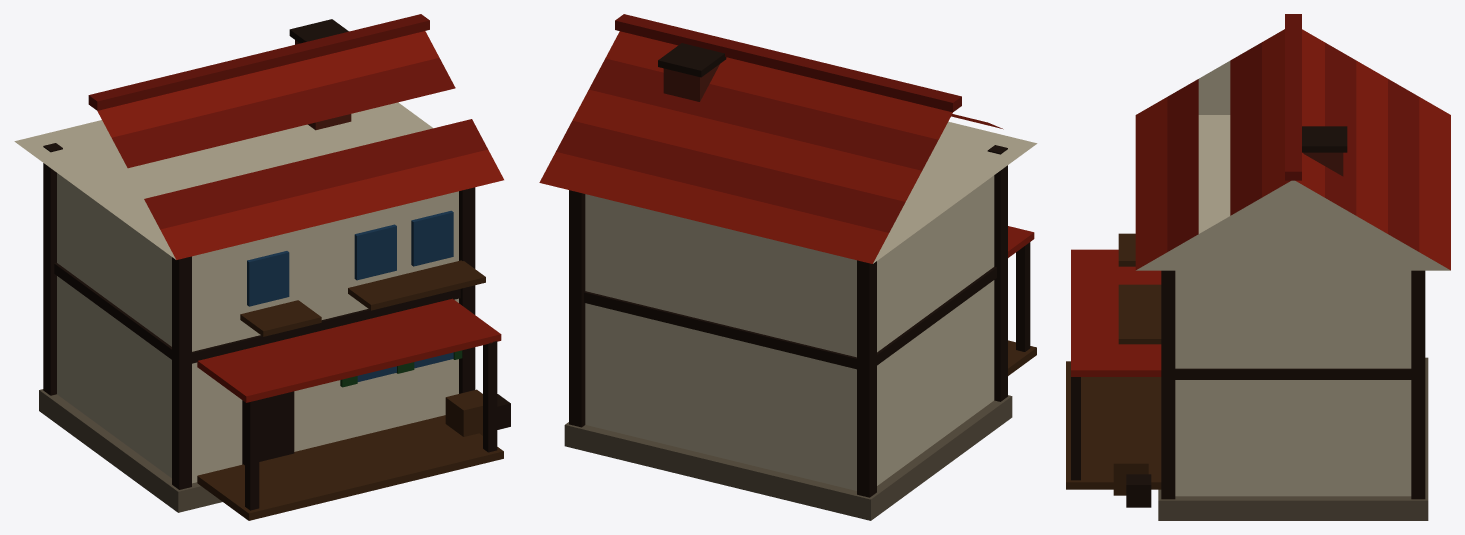
File: coast-house-d.glb
3 renders of one model, left to right at view 1: azimuth 30°, elevation 25°; view 2: azimuth 150°, elevation 25°; view 3: azimuth 270°, elevation 25°, orthographic. The views are drawn at different scales.
Visible parts, largest first — view 1: house-d; view 2: house-d; view 3: house-d.
Part boxes in pixels (x1,y1,x2,y2): house-d: [14, 14, 510, 520]; house-d: [539, 14, 1037, 520]; house-d: [1066, 14, 1450, 520].
Size of the model in its own units: 7.43 by 7.85 by 7.67.
